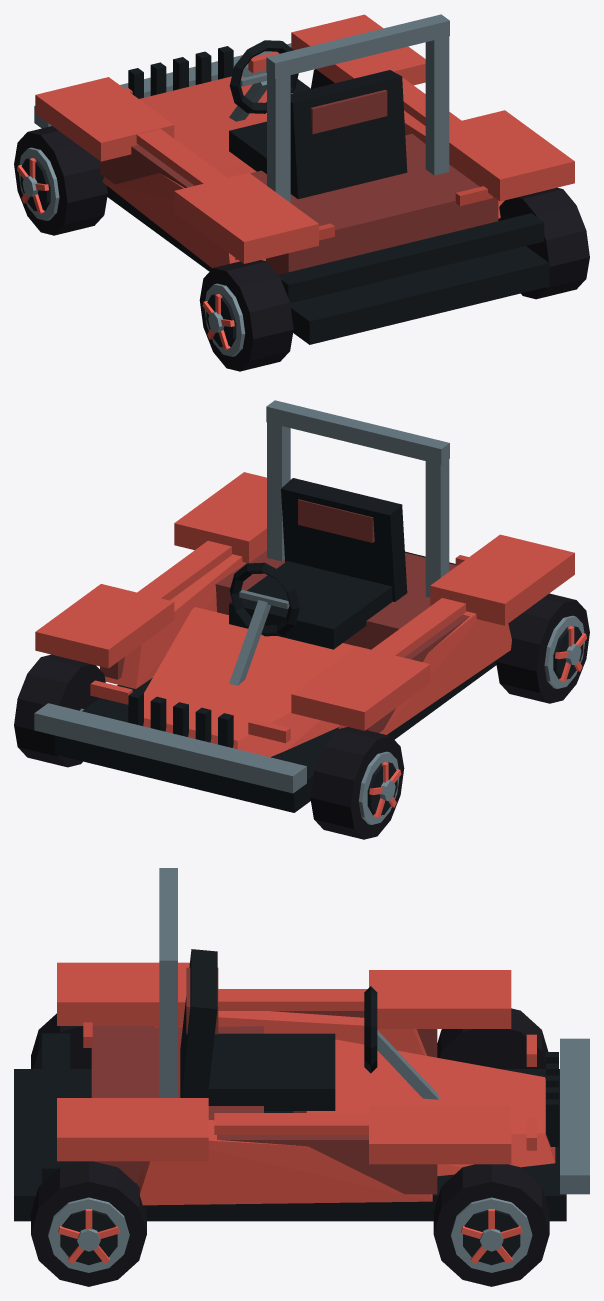
File: kart.glb
The picture shows the model from 3 angles, top to bottom: view 1: azimuth 30°, elevation 25°; view 2: azimuth 150°, elevation 25°; view 3: azimuth 270°, elevation 25°; orthographic projection. The views are drawn at different scales.
Visible parts, largest first — view 1: chassis, wheel-rear-left, wheel-front-left, wheel-rear-right; view 2: chassis, wheel-front-left, wheel-rear-left, wheel-front-right; view 3: chassis, wheel-rear-right, wheel-front-right, wheel-front-left, wheel-rear-left.
Part boxes in pixels (left/top/right/bottom): chassis: left=34, top=14, right=574, bottom=344; wheel-rear-left: left=199, top=260, right=293, bottom=371; wheel-front-left: left=14, top=126, right=107, bottom=235; wheel-rear-right: left=498, top=187, right=589, bottom=299; chassis: left=34, top=400, right=574, bottom=812; wheel-front-left: left=310, top=727, right=404, bottom=839; wheel-rear-left: left=496, top=593, right=589, bottom=703; wheel-front-right: left=14, top=654, right=105, bottom=767; chassis: left=14, top=868, right=589, bottom=1221; wheel-rear-right: left=31, top=1161, right=146, bottom=1286; wheel-front-right: left=433, top=1164, right=549, bottom=1286; wheel-front-left: left=437, top=1008, right=548, bottom=1068; wheel-rear-left: left=31, top=1013, right=91, bottom=1068.
Size of the model in its own units: 2.42 by 1.67 by 3.08.
